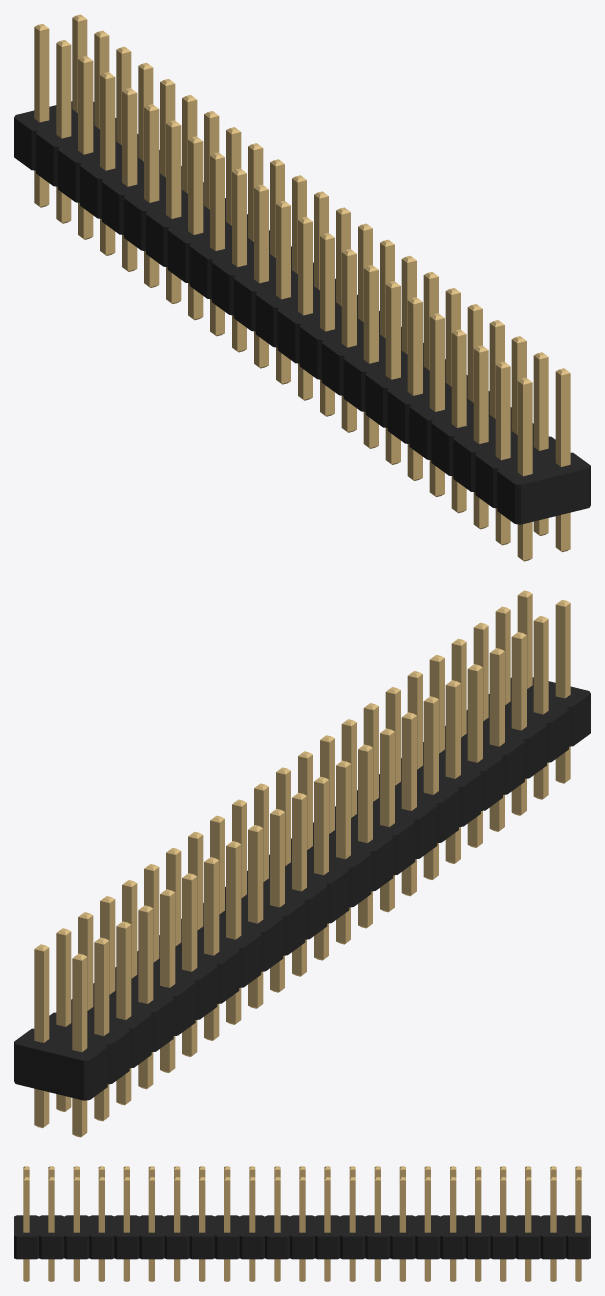
The model's file is kc-pinheader_2x23_p2.54mm_vertical.glb.
3 renders of one model, top to bottom at view 1: azimuth 30°, elevation 25°; view 2: azimuth 150°, elevation 25°; view 3: azimuth 270°, elevation 25°, orthographic. The views are drawn at different scales.
Visible parts, largest first — view 1: 0.75_0.5_0.25_0.9, 0_0_0_0; view 2: 0.75_0.5_0.25_0.9, 0_0_0_0; view 3: 0_0_0_0, 0.75_0.5_0.25_0.9.
Part boxes in pixels (x1=…): 0.75_0.5_0.25_0.9: x1=34, y1=14, x2=570, y2=561; 0_0_0_0: x1=14, y1=101, x2=590, y2=524; 0.75_0.5_0.25_0.9: x1=34, y1=590, x2=570, y2=1137; 0_0_0_0: x1=14, y1=677, x2=590, y2=1100; 0_0_0_0: x1=14, y1=1215, x2=590, y2=1259; 0.75_0.5_0.25_0.9: x1=23, y1=1166, x2=581, y2=1281.
Bounding box in the file's own units: 0.5078 × 1.15 × 5.84.
